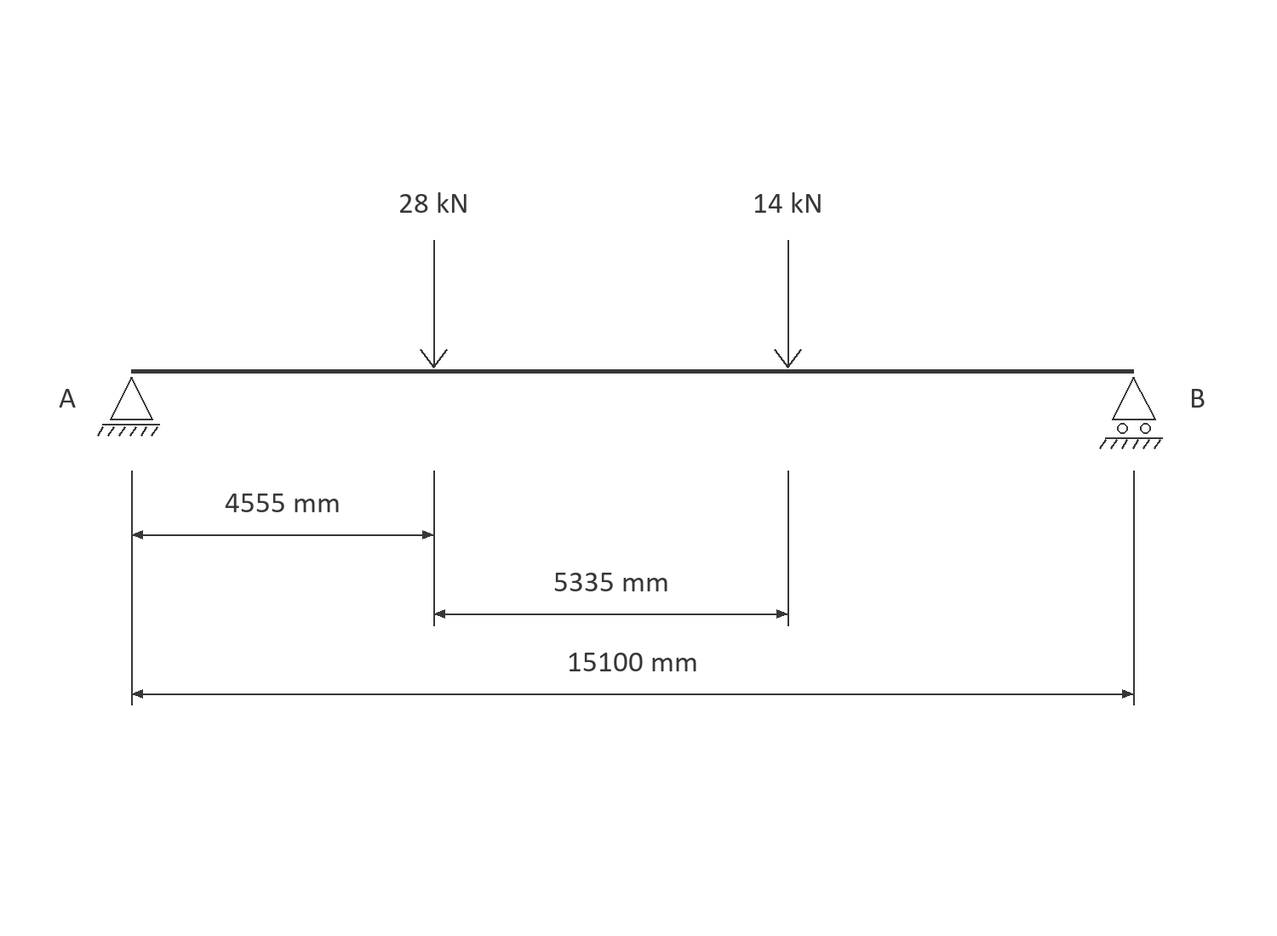pin_support: (97, 377, 160, 437)
point_load: (420, 240, 448, 368), (774, 240, 802, 368)
roller_support: (1099, 377, 1163, 449)
